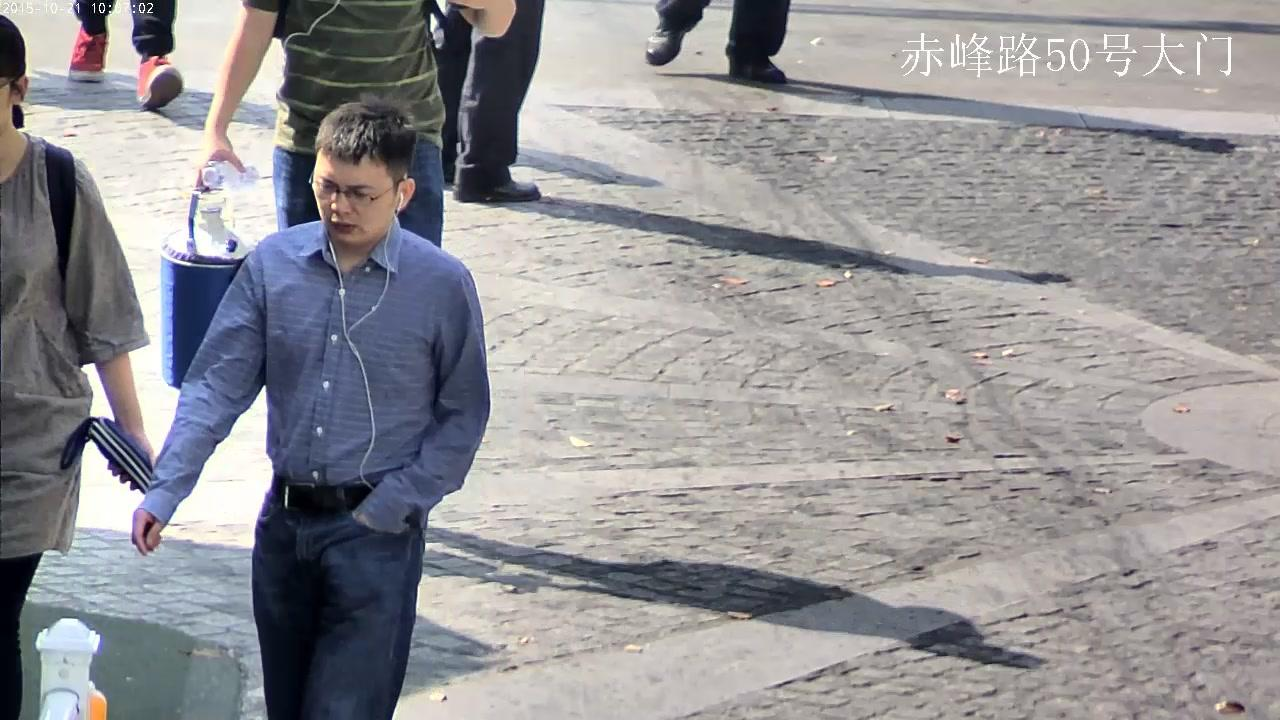face: (314, 148, 396, 240), (0, 78, 10, 136)
